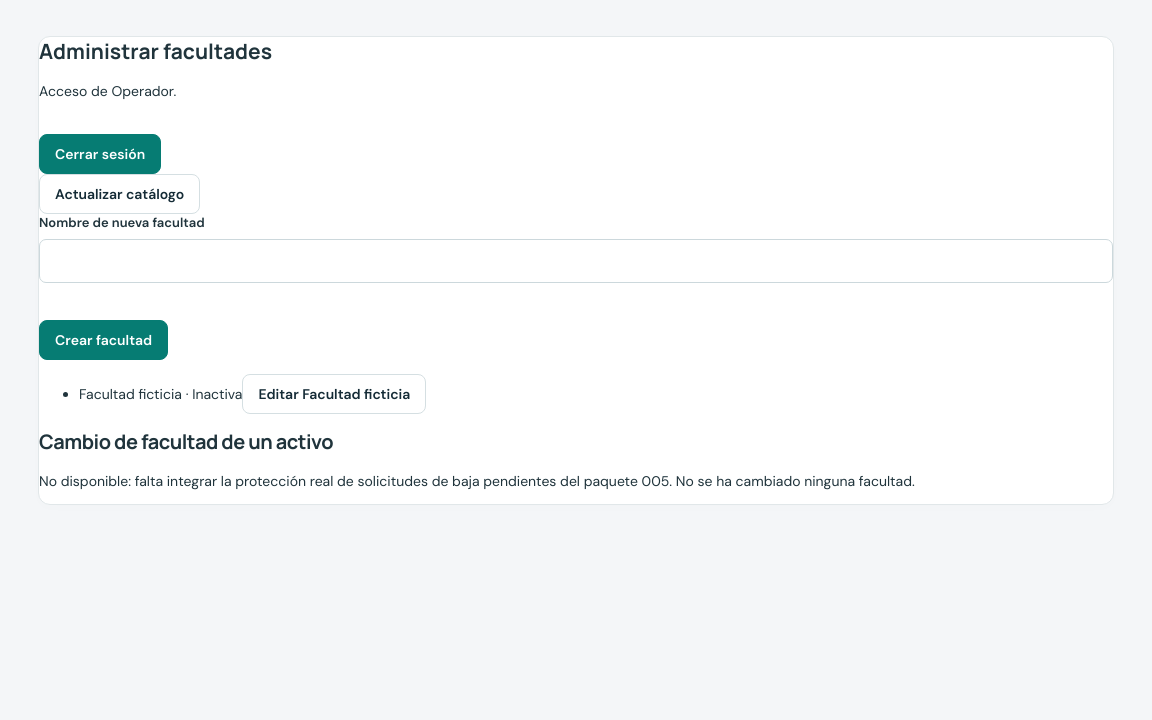
Scenario: respuesta de error del catálogo conserva el formulario del Operador
Expected: the heading "Administrar facultades" is shown, top-left (39, 37), bottom-right (272, 65)
Type "Facultad duplicada" into the field labelled "Nombre de nueva facultad" at (576, 261), box top-left (39, 239), bottom-right (1113, 283)
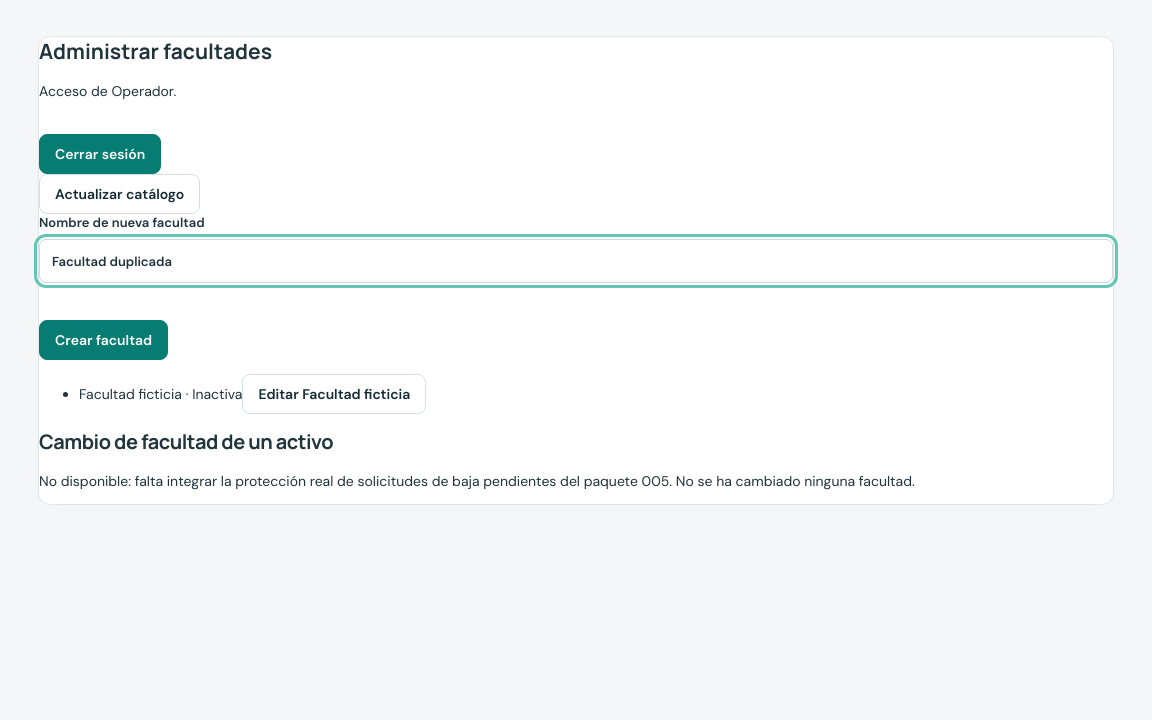
Click the button "Crear facultad" at (104, 340), box top-left (39, 320), bottom-right (168, 360)
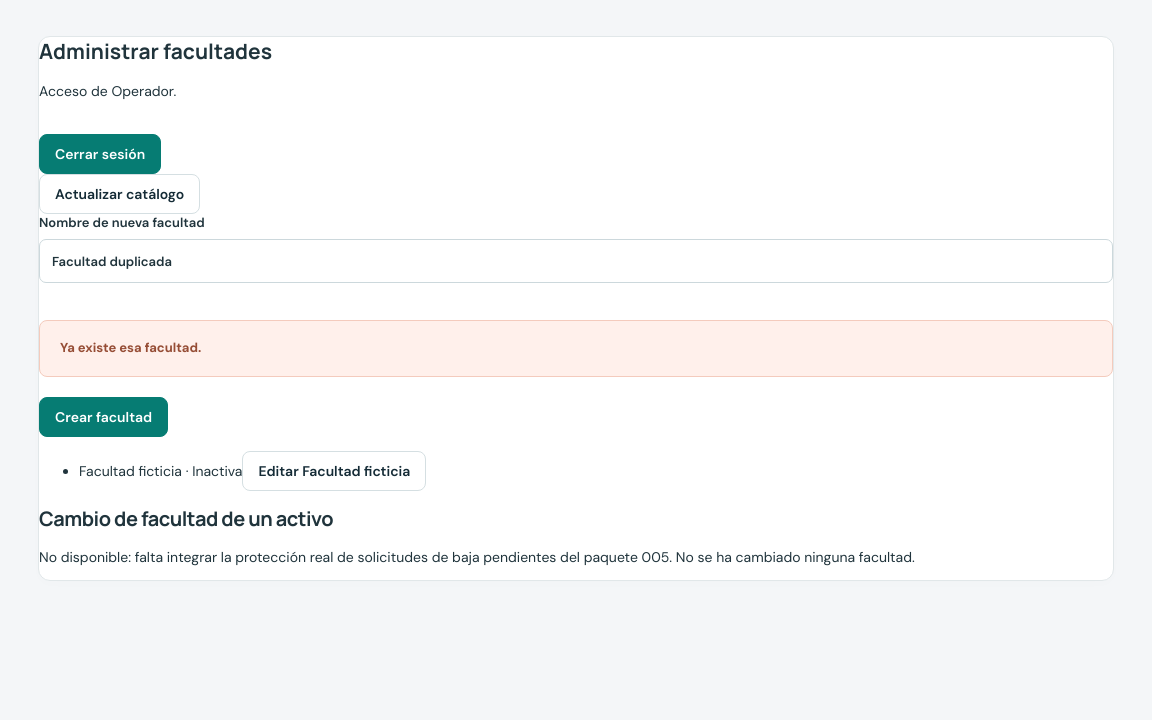
Expected: the text "falta integrar la protección real" is shown, top-left (39, 548), bottom-right (915, 566)
Expected: the message shows "Ya existe", top-left (60, 339), bottom-right (201, 356)
